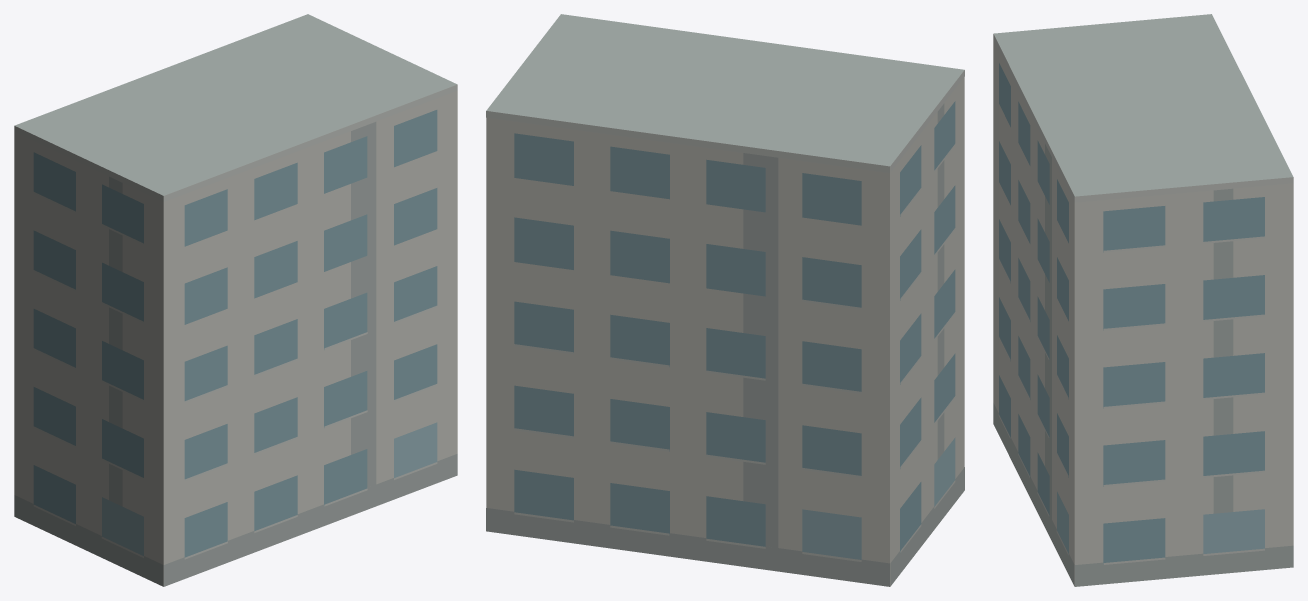
Rendered from residential-f4e0148b-b11c-42db-aa7b-8d9326fe0618.glb.
3 views of the same model, side by side, from view 1: azimuth 30°, elevation 25°; view 2: azimuth 150°, elevation 25°; view 3: azimuth 270°, elevation 25° (orthographic). The views are drawn at different scales.
Visible parts, largest first — view 1: residential-f4e0148b-b11c-42db-aa7b-8d9326fe0618.tmp; view 2: residential-f4e0148b-b11c-42db-aa7b-8d9326fe0618.tmp; view 3: residential-f4e0148b-b11c-42db-aa7b-8d9326fe0618.tmp.
Boxes of the visible parts, x1,y1,x2,y2 form: residential-f4e0148b-b11c-42db-aa7b-8d9326fe0618.tmp: (14, 14, 457, 586); residential-f4e0148b-b11c-42db-aa7b-8d9326fe0618.tmp: (486, 14, 964, 586); residential-f4e0148b-b11c-42db-aa7b-8d9326fe0618.tmp: (993, 14, 1293, 586).
Size of the model in its own units: 15.31 by 15.25 by 10.64.
